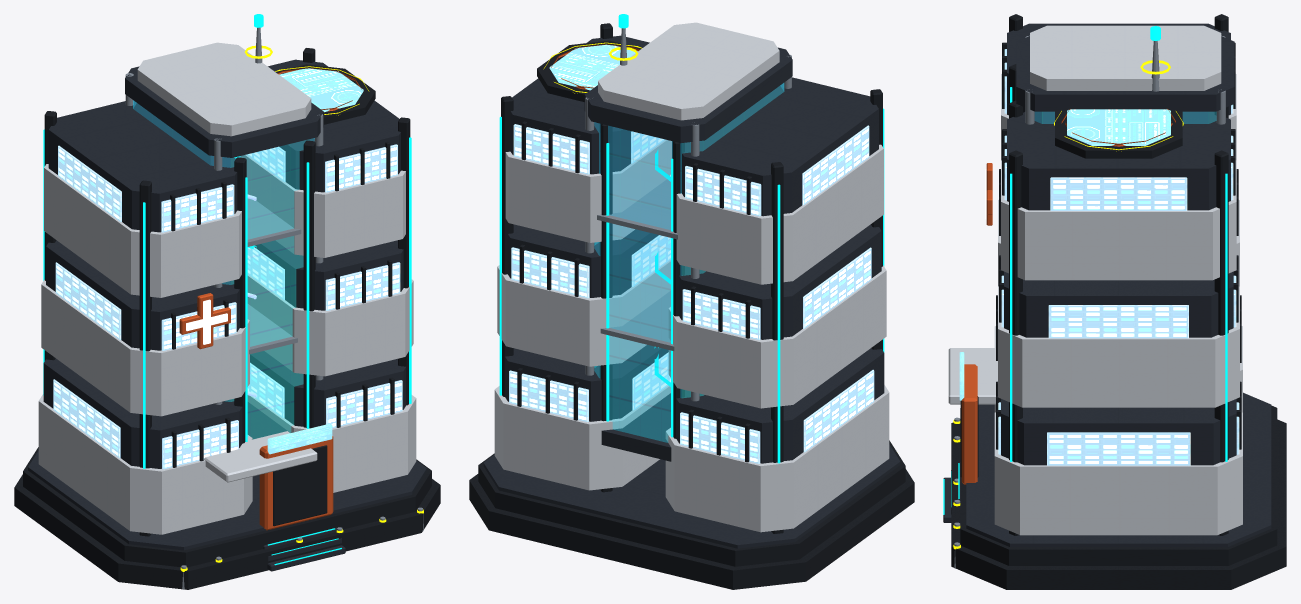
Rendered from bldg_04_r1_03.glb.
3 views of the same model, side by side, from view 1: azimuth 30°, elevation 25°; view 2: azimuth 150°, elevation 25°; view 3: azimuth 270°, elevation 25° (orthographic). The views are drawn at different scales.
Visible parts, largest first — view 1: Bldg04_C03_aero_white, Bldg04_C03_carbon_slate, Bldg04_C03_gunmetal, Bldg04_C03_window_lit, Bldg04_C03_glass_cyan, Bldg04_C03_led_cyan, Bldg04_C03_steel_machined, Bldg04_C03_marquee, Bldg04_C03_accent_orange, Bldg04_C03_led_ice; view 2: Bldg04_C03_aero_white, Bldg04_C03_carbon_slate, Bldg04_C03_gunmetal, Bldg04_C03_window_lit, Bldg04_C03_glass_cyan, Bldg04_C03_steel_machined, Bldg04_C03_led_cyan, Bldg04_C03_marquee; view 3: Bldg04_C03_aero_white, Bldg04_C03_carbon_slate, Bldg04_C03_gunmetal, Bldg04_C03_window_lit, Bldg04_C03_marquee, Bldg04_C03_accent_orange, Bldg04_C03_led_cyan, Bldg04_C03_steel_machined, Bldg04_C03_glass_cyan, Bldg04_C03_led_amber.
Boxes of the visible parts, box(x1,y1,x2,y2) form: Bldg04_C03_aero_white: box(38, 42, 416, 534); Bldg04_C03_carbon_slate: box(28, 59, 426, 571); Bldg04_C03_gunmetal: box(14, 48, 440, 589); Bldg04_C03_window_lit: box(53, 144, 402, 469); Bldg04_C03_glass_cyan: box(133, 100, 314, 438); Bldg04_C03_led_cyan: box(43, 14, 411, 565); Bldg04_C03_steel_machined: box(125, 27, 423, 589); Bldg04_C03_marquee: box(267, 68, 363, 454); Bldg04_C03_accent_orange: box(179, 67, 361, 530); Bldg04_C03_led_ice: box(186, 299, 227, 344); Bldg04_C03_aero_white: box(494, 22, 889, 532); Bldg04_C03_carbon_slate: box(483, 35, 900, 548); Bldg04_C03_gunmetal: box(469, 23, 914, 589); Bldg04_C03_window_lit: box(509, 124, 874, 463); Bldg04_C03_glass_cyan: box(594, 83, 784, 442); Bldg04_C03_steel_machined: box(585, 28, 791, 401); Bldg04_C03_led_cyan: box(499, 14, 884, 463); Bldg04_C03_marquee: box(549, 44, 637, 90); Bldg04_C03_aero_white: box(948, 25, 1242, 535); Bldg04_C03_carbon_slate: box(943, 23, 1271, 546); Bldg04_C03_gunmetal: box(951, 14, 1286, 589); Bldg04_C03_window_lit: box(998, 49, 1239, 465); Bldg04_C03_marquee: box(959, 109, 1170, 400); Bldg04_C03_accent_orange: box(961, 108, 1175, 484); Bldg04_C03_led_cyan: box(943, 26, 1227, 514); Bldg04_C03_steel_machined: box(954, 35, 1225, 568); Bldg04_C03_glass_cyan: box(1035, 112, 1216, 123); Bldg04_C03_led_amber: box(953, 60, 1183, 549).
Size of the model in its own units: 12 by 16.52 by 10.23.
12 materials, 12 textured.
